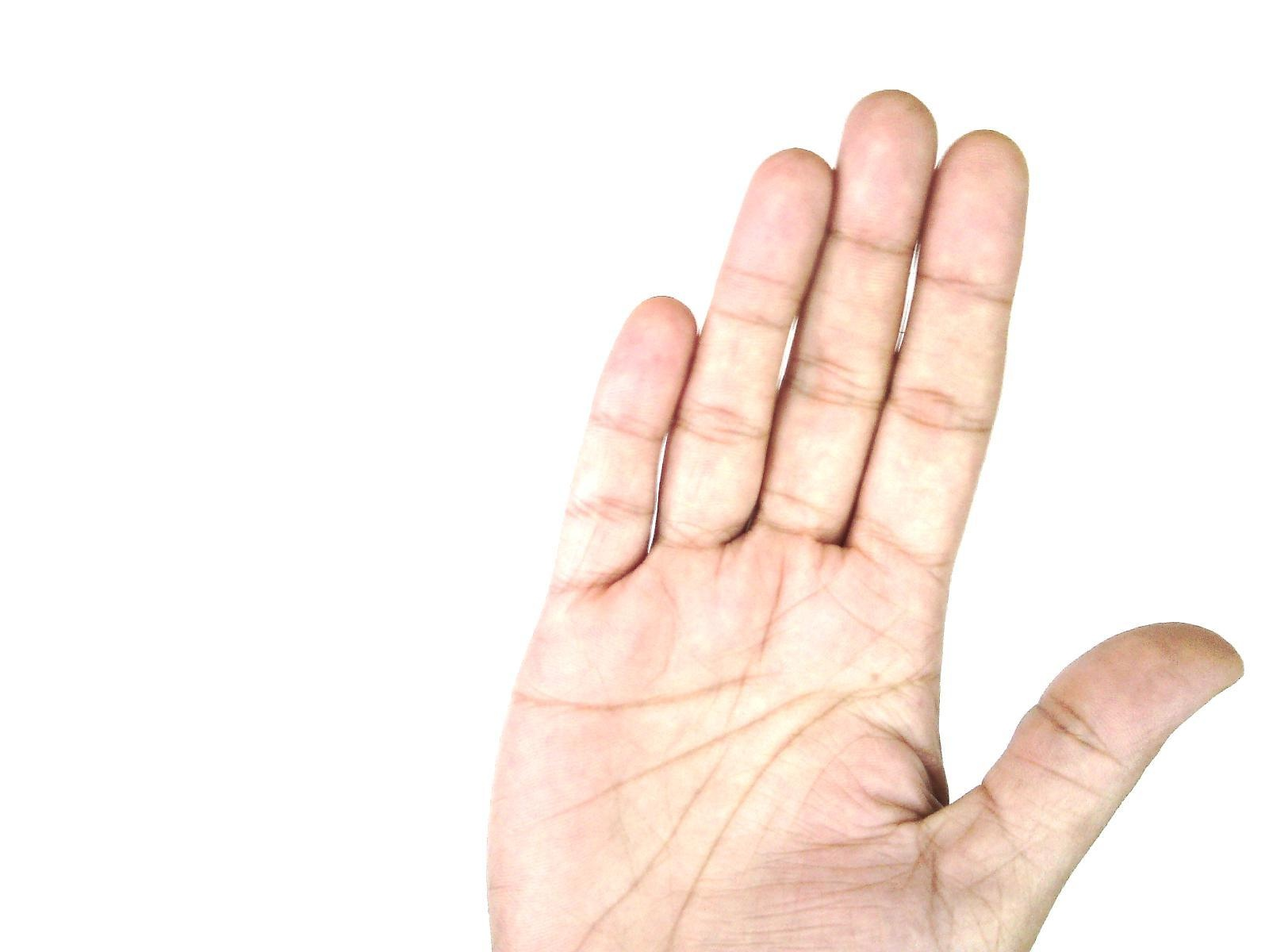open_palm: (481, 88, 1246, 951)
